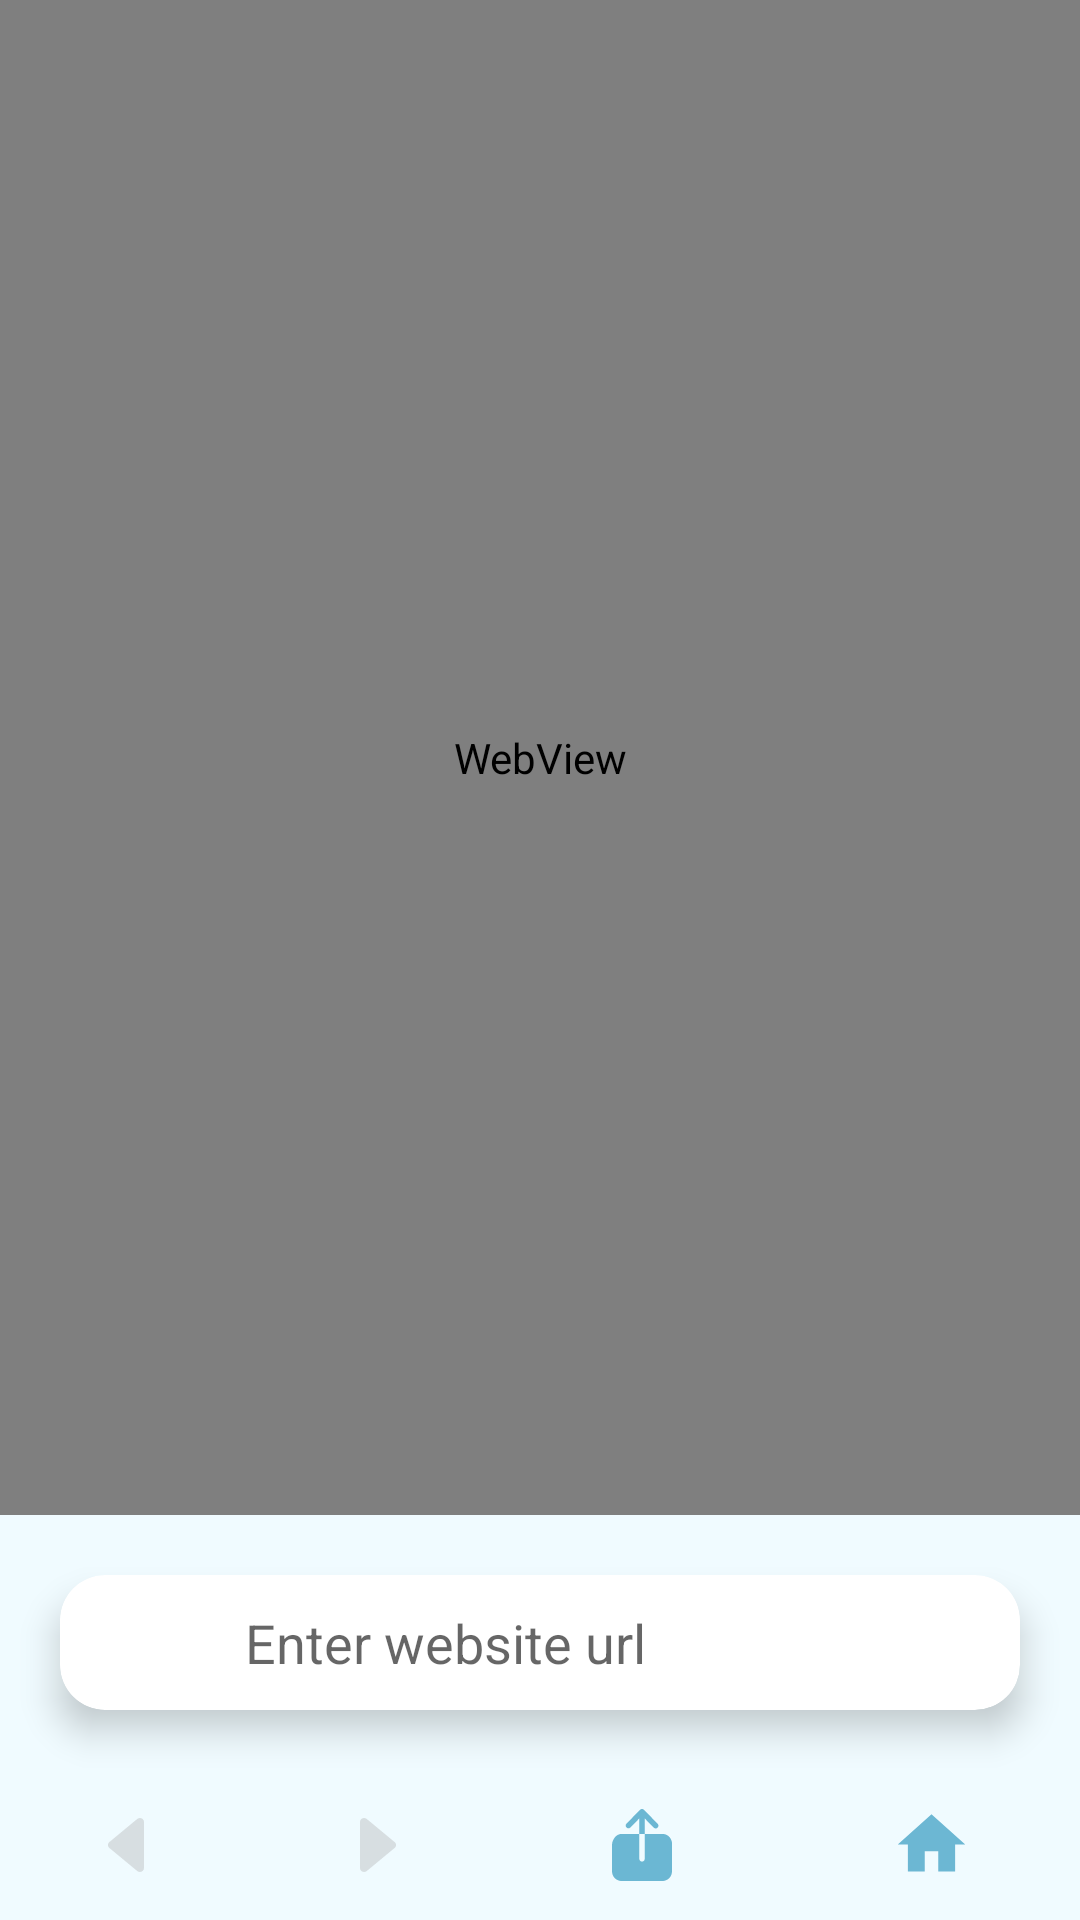

Icon click points for this 1080 × 1920 phone screenshot, format (x=x, y=y):
home: (x=931, y=1843)
left: (x=126, y=1845)
right: (x=378, y=1845)
share: (x=642, y=1845)
